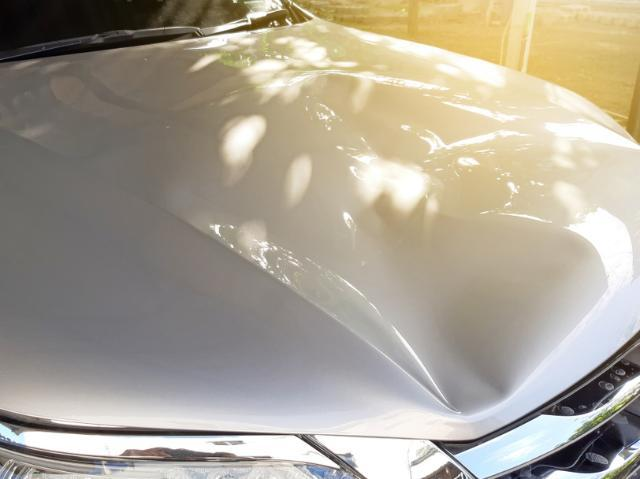Bonnet: (153, 110, 640, 423)
